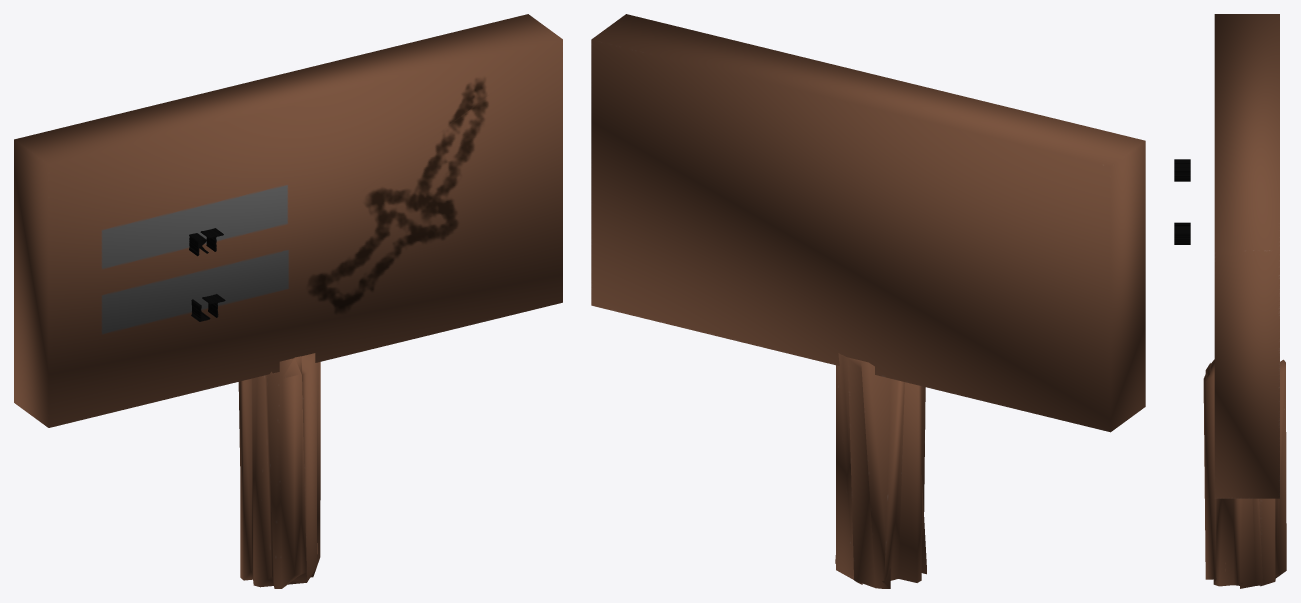
Rendered from woodensignblendAttack..glb.
The picture shows the model from 3 angles, left to right: view 1: azimuth 30°, elevation 25°; view 2: azimuth 150°, elevation 25°; view 3: azimuth 270°, elevation 25°; orthographic projection. The views are drawn at different scales.
Parts seen in each view (by area): view 1: node_id4; view 2: node_id4; view 3: node_id4, mesh_id136, mesh_id148.
Boxes of the visible parts, x1,y1,x2,y2 form: node_id4: [14, 14, 562, 588]; node_id4: [591, 14, 1145, 588]; node_id4: [1203, 14, 1286, 588]; mesh_id136: [1174, 159, 1190, 181]; mesh_id148: [1174, 222, 1190, 244].
Bounding box in the file's own units: 0.512 × 0.4532 × 0.1028.
3 materials, 1 textured.
